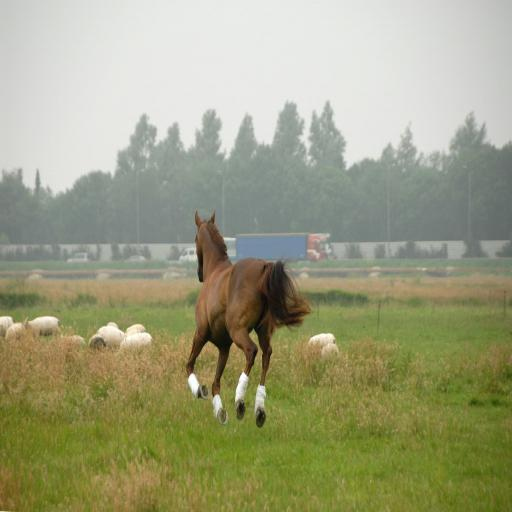horse: (185, 210, 314, 430)
